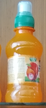orange: (5, 1, 43, 103)
